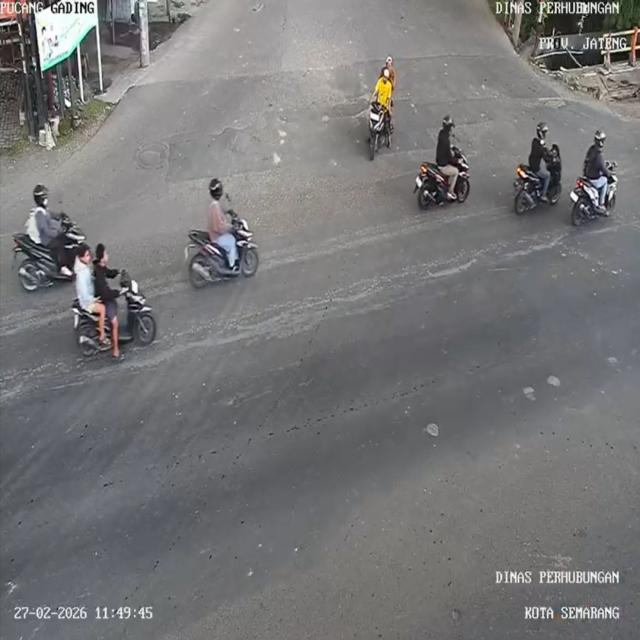motorcycle: (66, 288, 164, 365), (190, 226, 264, 282), (12, 230, 77, 291), (412, 153, 480, 210), (508, 160, 566, 220), (572, 174, 620, 223), (368, 97, 389, 163)
person: (90, 240, 125, 320), (26, 187, 62, 253), (204, 178, 238, 247), (72, 245, 101, 318), (579, 127, 610, 187), (434, 116, 461, 172), (526, 116, 549, 178), (374, 71, 393, 117), (383, 52, 398, 86)
rider_region: (73, 241, 160, 360), (187, 178, 260, 289), (17, 184, 87, 291), (409, 116, 473, 209), (512, 119, 563, 214), (570, 129, 618, 227), (365, 47, 399, 162)
